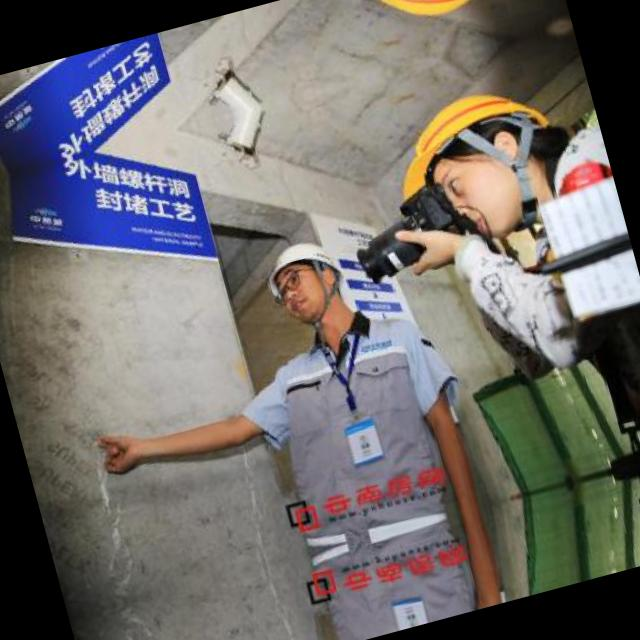helmet: (365, 61, 576, 265), (252, 224, 362, 338), (331, 0, 519, 55)
